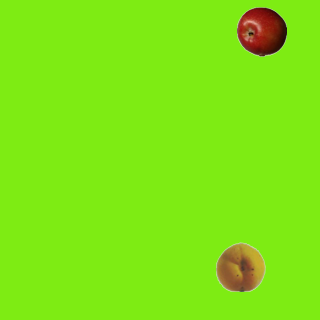Apple Braeburn: (236, 6, 286, 56)
Peach 2: (215, 241, 265, 291)
